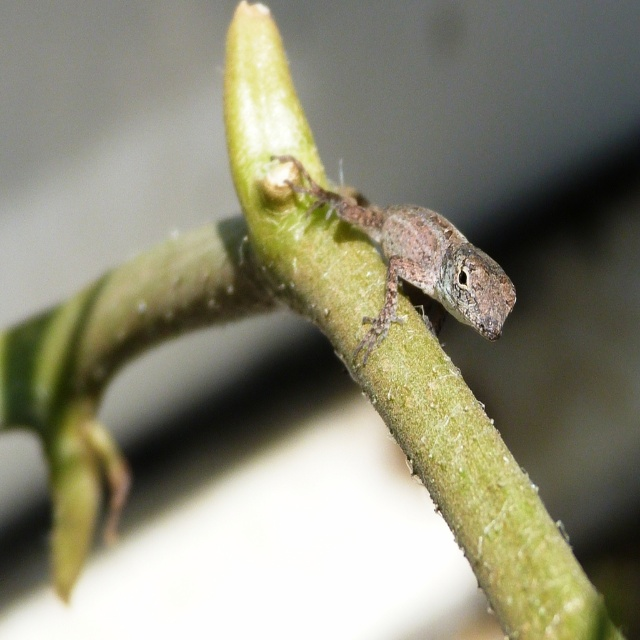Lizard: (242, 136, 538, 397)
